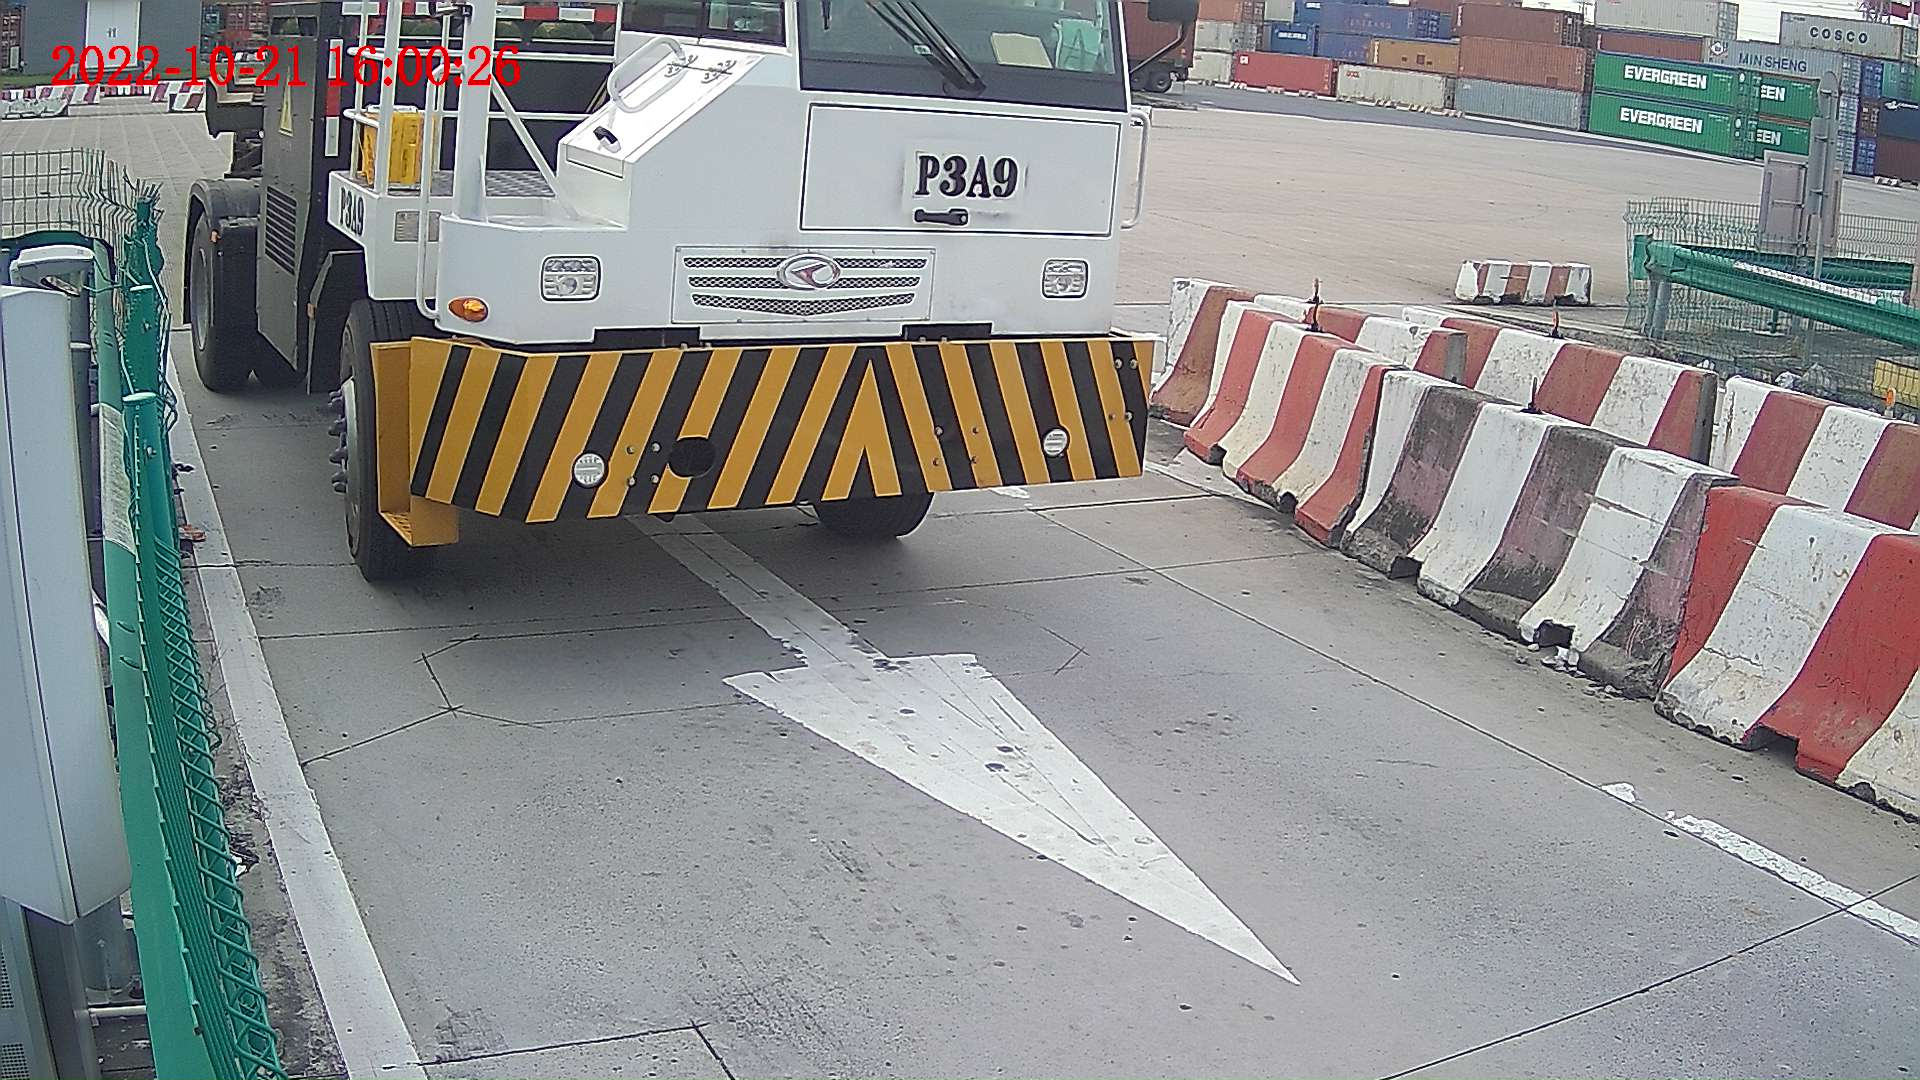head: (294, 1, 1154, 565)
